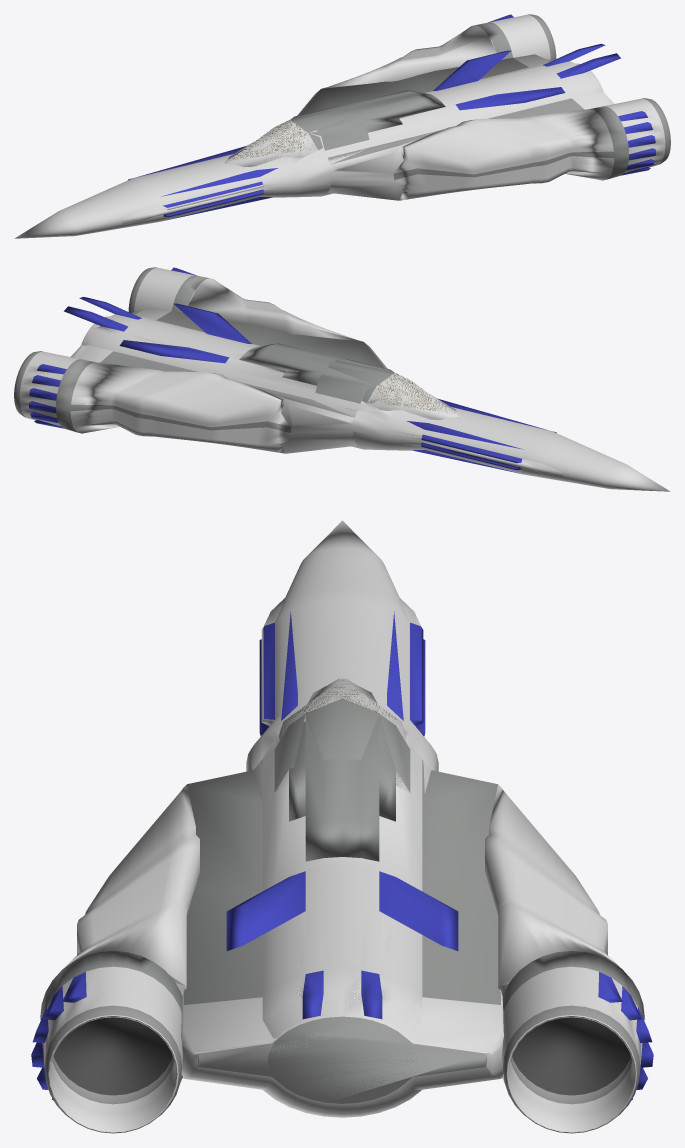
Rendered from space_2.fbx.
3 views of the same model, one above another, from view 1: azimuth 30°, elevation 25°; view 2: azimuth 150°, elevation 25°; view 3: azimuth 270°, elevation 25° (orthographic). The views are drawn at different scales.
Parts seen in each view (by area): view 1: Cylinder; view 2: Cylinder; view 3: Cylinder.
Boxes of the visible parts, box(x1,y1,x2,y2) form: Cylinder: box(14, 14, 670, 238); Cylinder: box(14, 267, 670, 491); Cylinder: box(31, 520, 653, 1133).
Size of the model in its own units: 1887 by 221 by 852.
